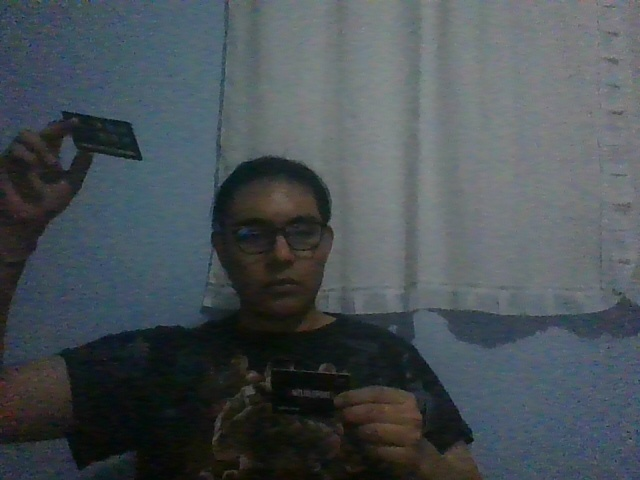tarjeta: (60, 110, 143, 162), (270, 368, 351, 417)
